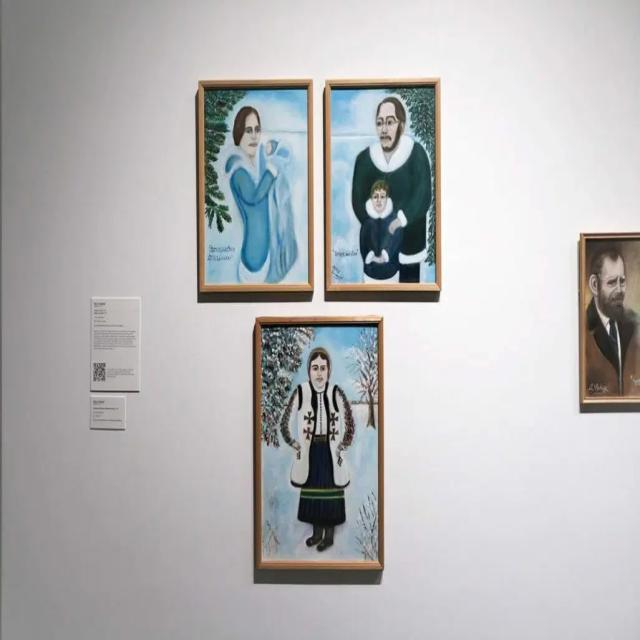painting: (255, 318, 383, 572), (326, 79, 441, 296), (199, 77, 314, 293), (580, 232, 640, 410)
